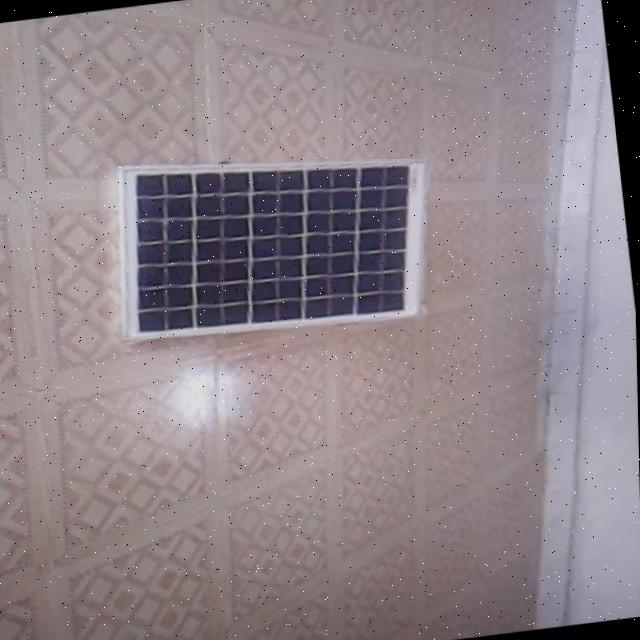Normal Solar Panel: (109, 128, 443, 346)
